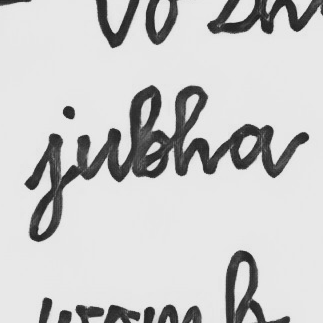a: (225, 118, 277, 174)
b: (126, 83, 171, 180)
h: (173, 83, 217, 179)
j: (21, 130, 67, 244)
u: (74, 126, 122, 182)
